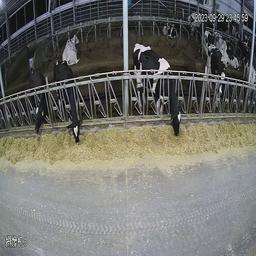cow: (133, 42, 180, 137), (54, 65, 84, 147), (28, 69, 48, 134), (207, 46, 227, 108), (64, 31, 81, 63), (186, 7, 202, 36), (160, 16, 178, 38)
